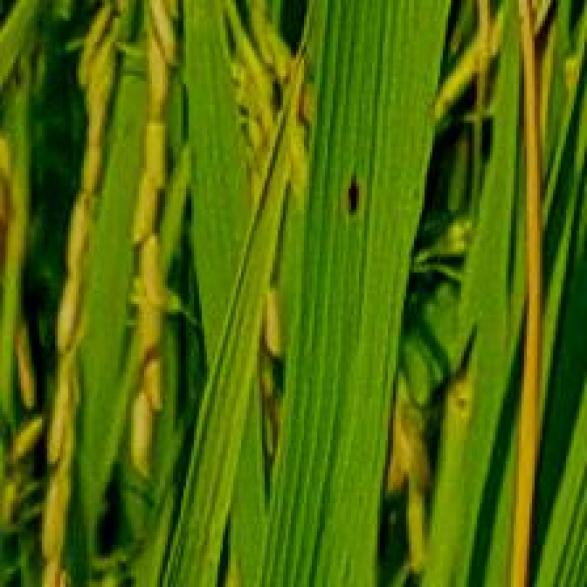Brown_Spot: (330, 160, 375, 223)
